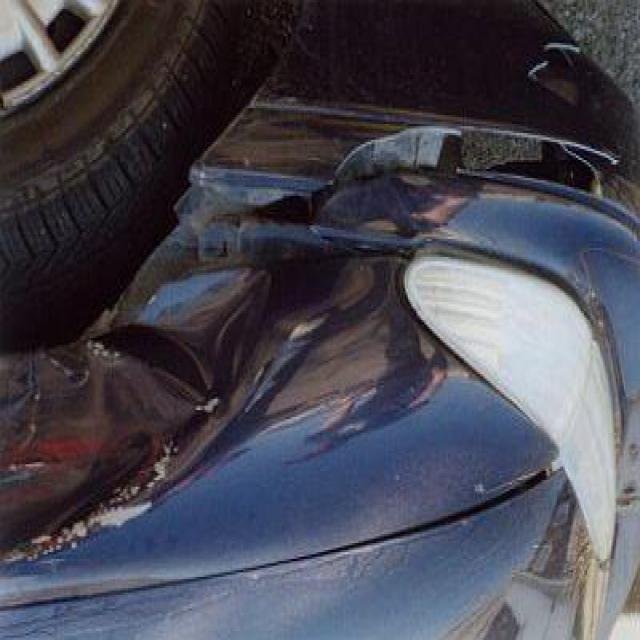dent: (7, 112, 535, 604)
